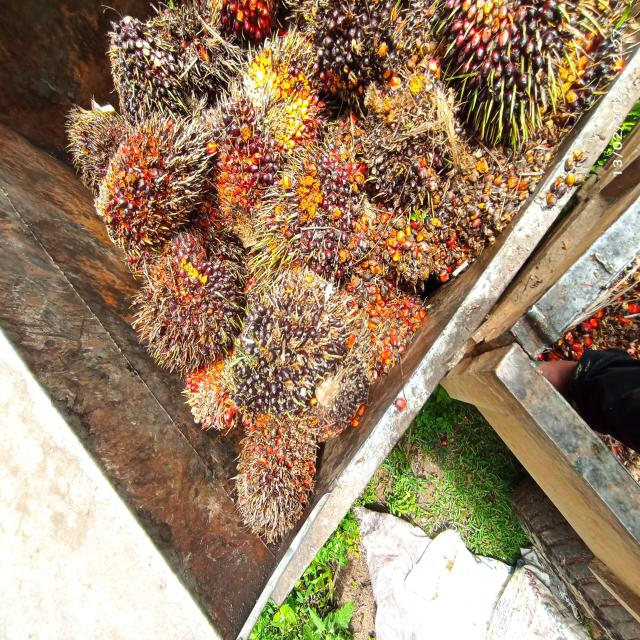fraksi 00: (220, 260, 353, 436), (442, 0, 578, 146), (356, 95, 458, 205), (302, 0, 398, 94), (101, 8, 174, 123)
fraksi 1: (182, 71, 309, 237), (130, 232, 250, 371), (269, 132, 375, 276)
fraksi 4: (91, 108, 207, 252), (235, 418, 316, 548), (180, 352, 254, 438)
